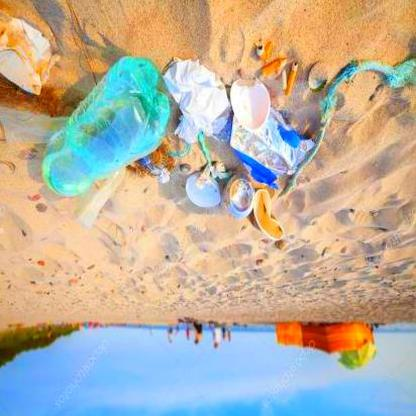plastic bottle: (40, 56, 171, 197)
